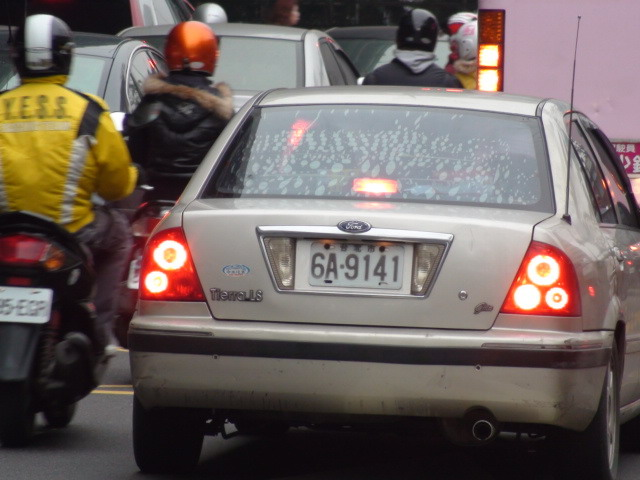plate: (308, 238, 403, 294), (1, 285, 53, 328)
